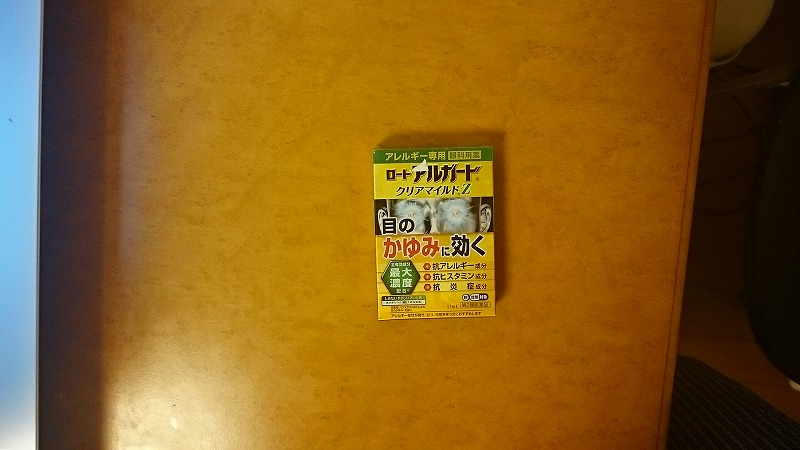C: (365, 139, 504, 329)
